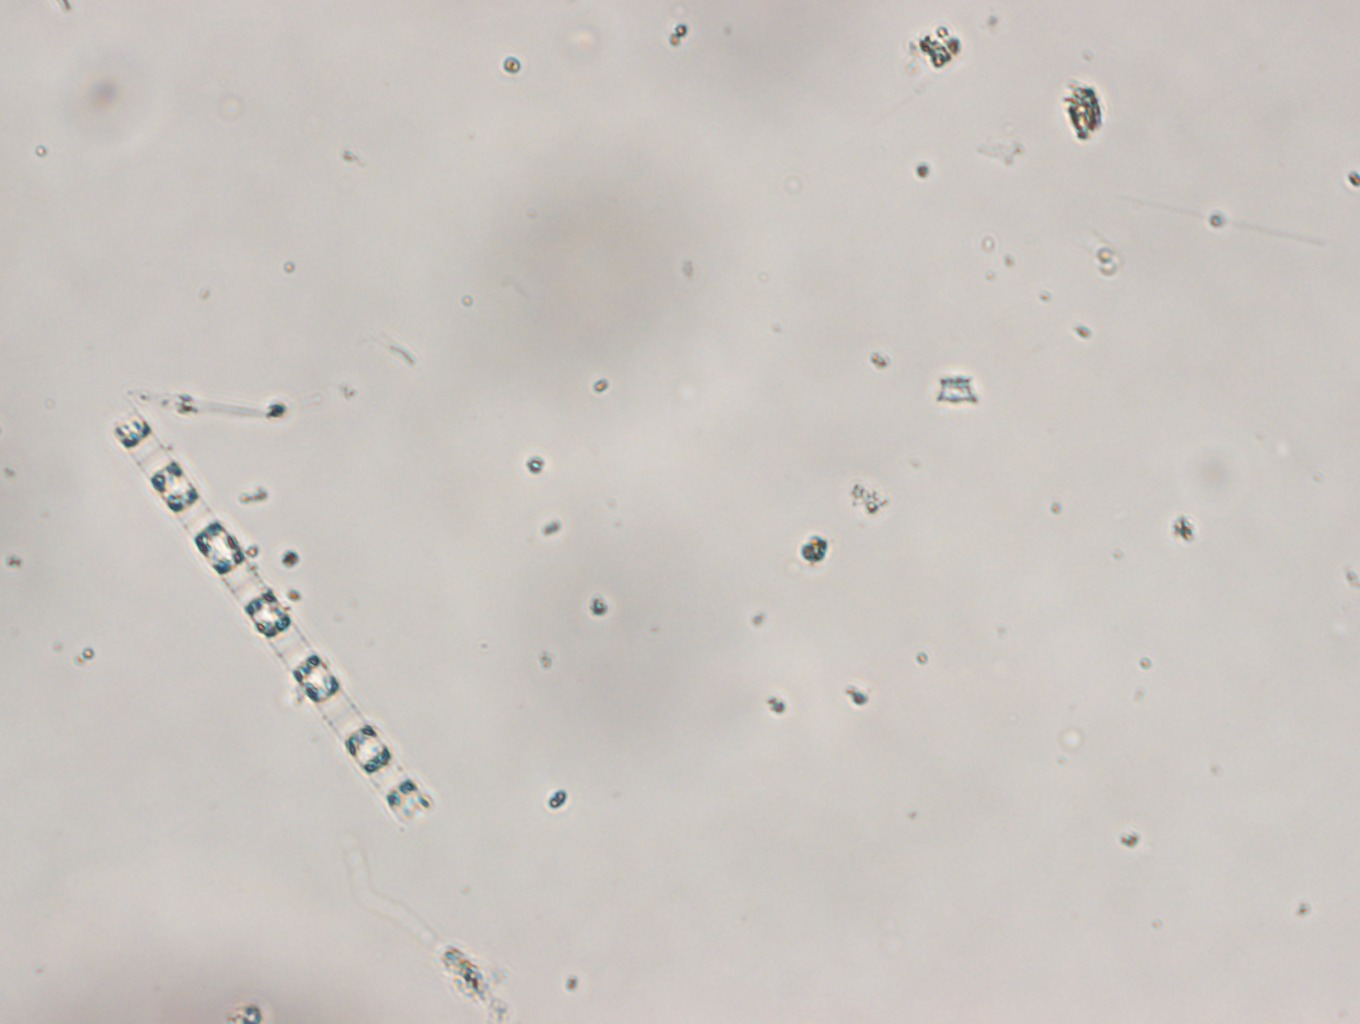skeletonema: (111, 402, 438, 828)
